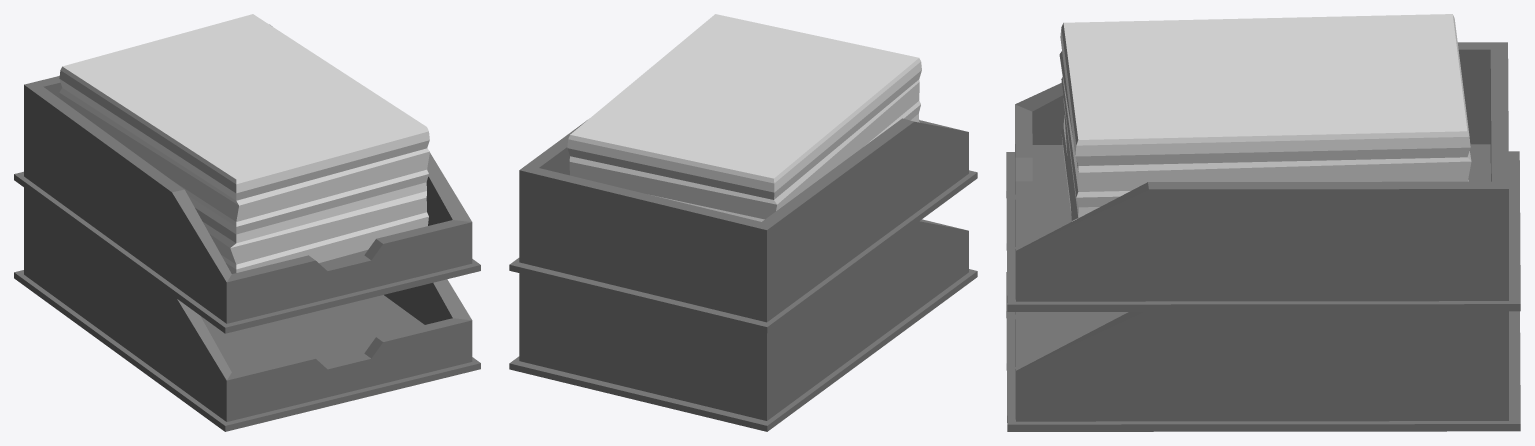
The model's file is GuardaHojas.fbx.
3 views of the same model, side by side, from view 1: azimuth 30°, elevation 25°; view 2: azimuth 150°, elevation 25°; view 3: azimuth 270°, elevation 25° (orthographic). The views are drawn at different scales.
Visible parts, largest first — view 1: Guarda_Hojas; view 2: Guarda_Hojas; view 3: Guarda_Hojas.
Part boxes in pixels (left/top/right/bottom): Guarda_Hojas: left=14, top=14, right=480, bottom=431; Guarda_Hojas: left=509, top=14, right=977, bottom=431; Guarda_Hojas: left=1006, top=14, right=1520, bottom=431.
Bounding box in the file's own units: 34.05 × 28.71 × 48.31.
